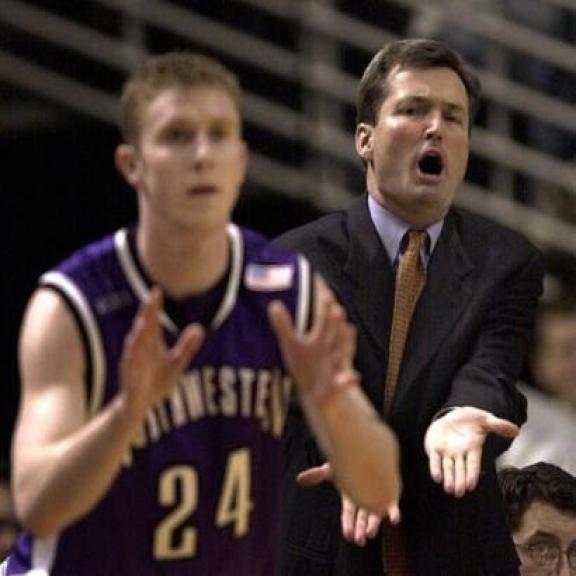face: (115, 58, 250, 234), (356, 62, 467, 224), (497, 494, 576, 576), (542, 303, 576, 392)
